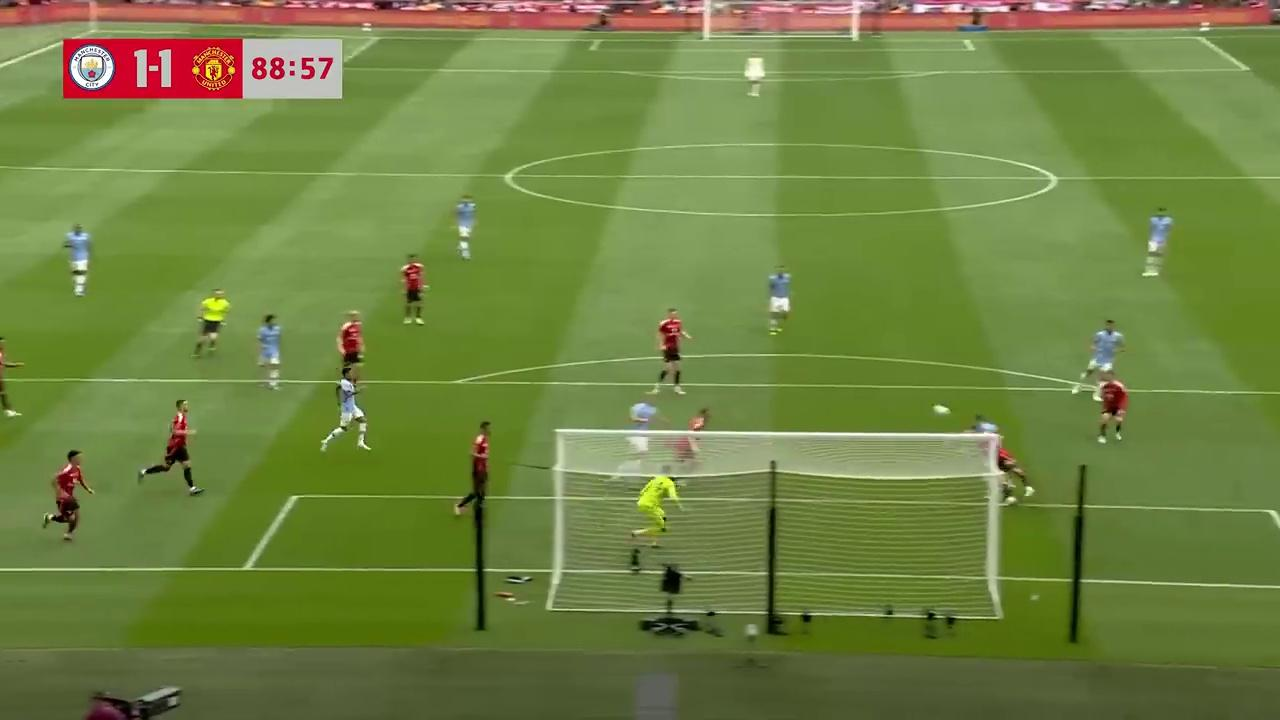ball: (932, 402, 954, 418)
player: (138, 399, 203, 496), (39, 449, 94, 543), (977, 416, 1035, 501), (319, 366, 372, 454), (452, 419, 490, 523), (1079, 318, 1125, 394), (654, 306, 691, 393), (637, 470, 679, 538), (1094, 371, 1128, 445), (1141, 206, 1174, 277), (398, 254, 429, 326), (62, 223, 92, 297), (336, 312, 365, 384), (255, 313, 282, 390), (0, 333, 24, 418), (766, 265, 792, 335), (680, 407, 710, 462), (453, 194, 476, 259), (743, 53, 765, 97)
referee: (191, 287, 230, 357)
